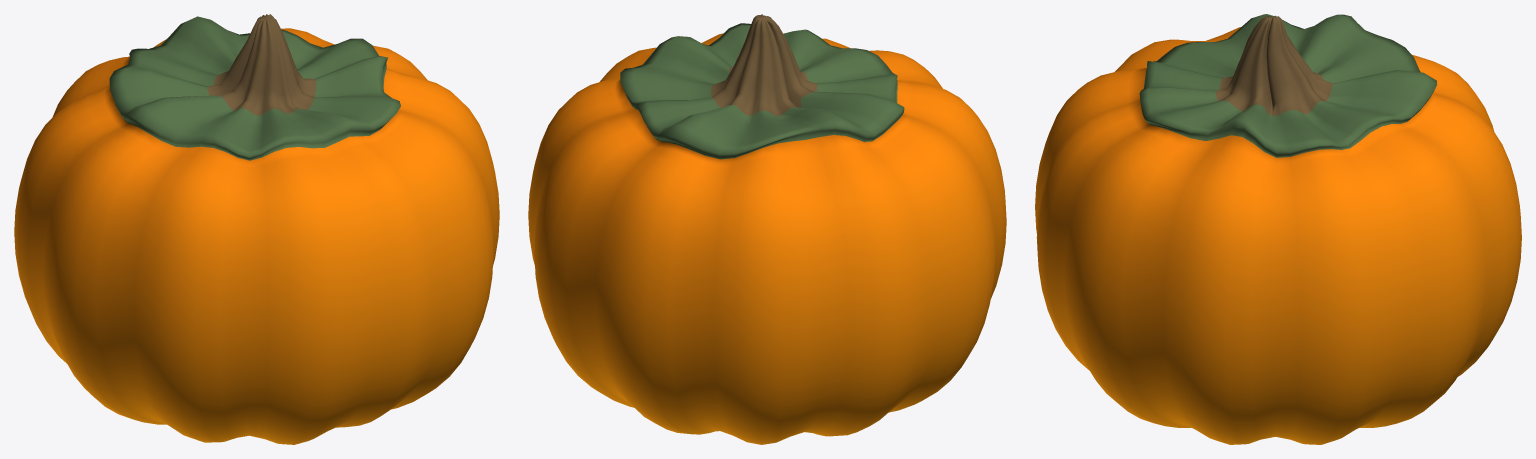
File: PumpkinSmoothed.fbx
The picture shows the model from 3 angles, left to right: view 1: azimuth 30°, elevation 25°; view 2: azimuth 150°, elevation 25°; view 3: azimuth 270°, elevation 25°; orthographic projection. The views are drawn at different scales.
Parts seen in each view (by area): view 1: Sphere.002; view 2: Sphere.002; view 3: Sphere.002.
Boxes of the visible parts, bbox=[...] form: Sphere.002: bbox=[14, 14, 499, 444]; Sphere.002: bbox=[528, 14, 1006, 444]; Sphere.002: bbox=[1035, 14, 1521, 444].
Bounding box in the file's own units: 60.19 × 53.39 × 60.19.
